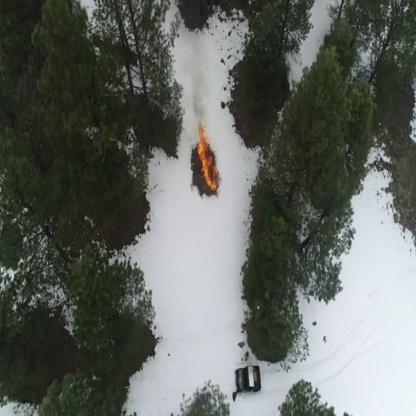Fire: (196, 120, 219, 192)
